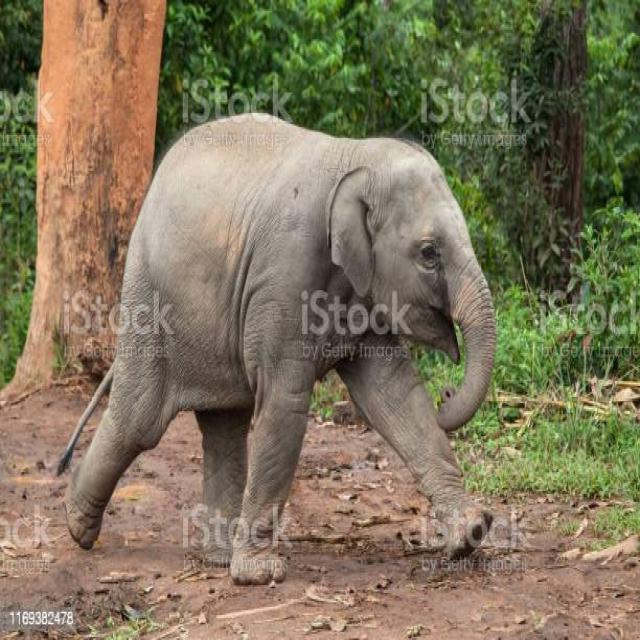Elephant: (49, 90, 514, 593)
